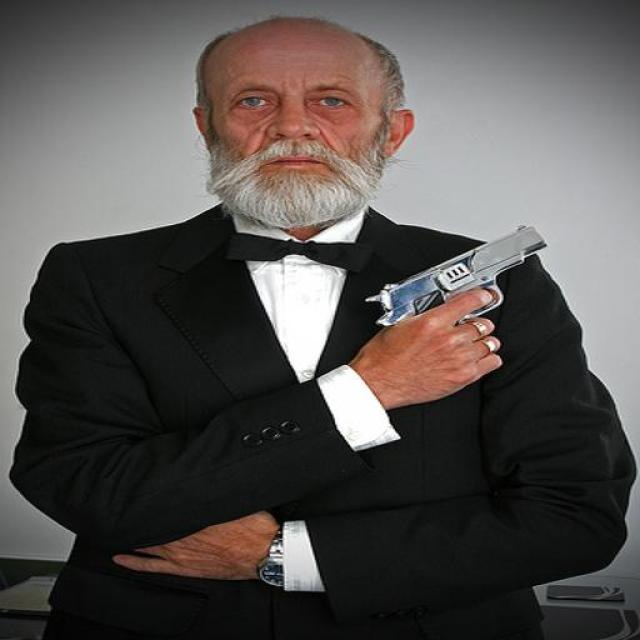pistol: (362, 223, 550, 331)
